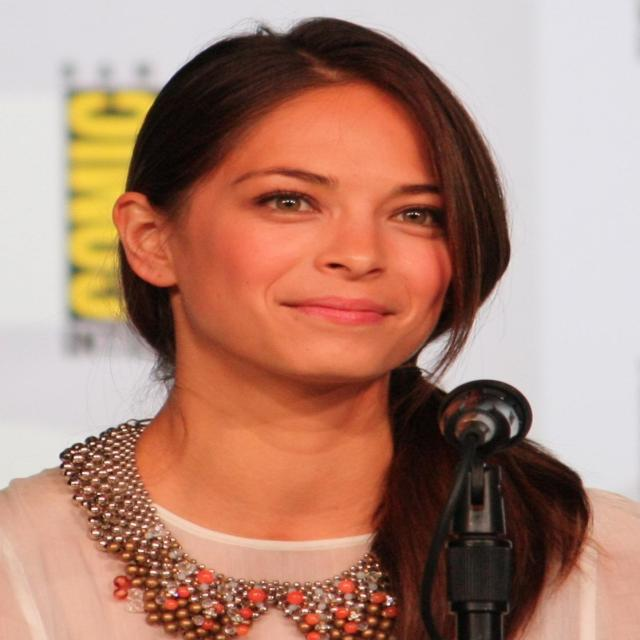no-earmuff: (92, 180, 203, 301)
